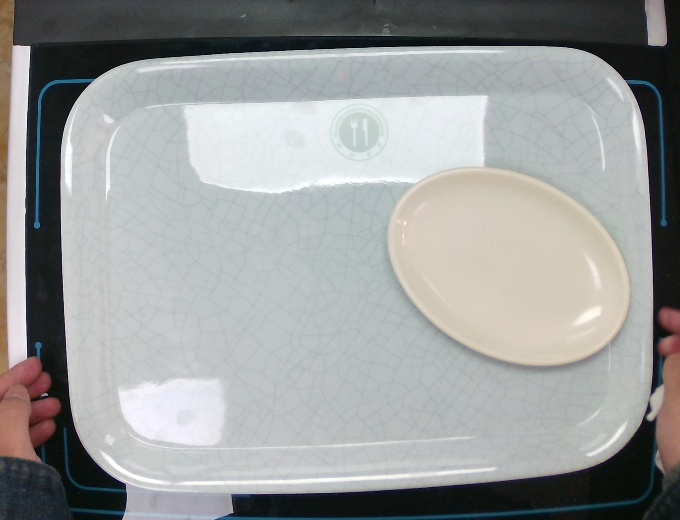JYsf-Tuo_Yuan_Wan: (385, 165, 634, 370)
